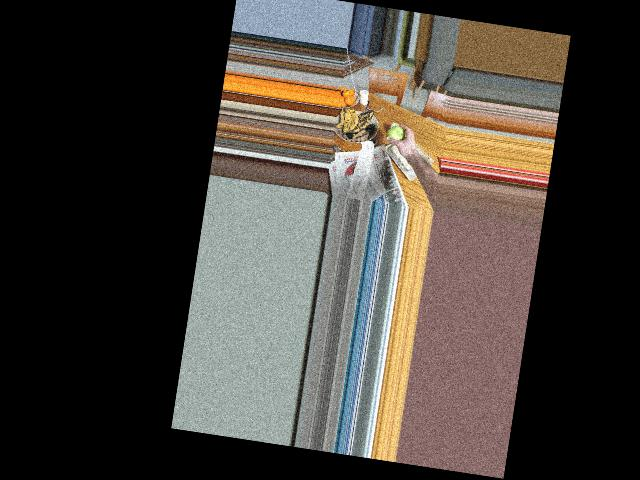apple: (383, 121, 410, 148)
